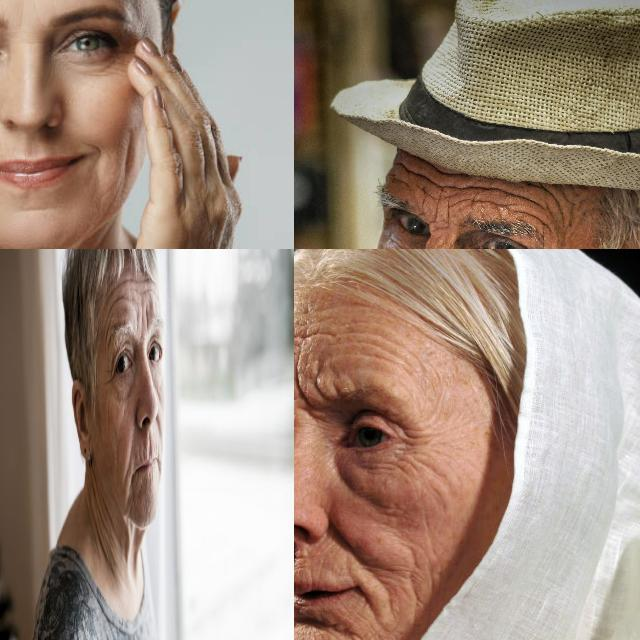chin: (314, 614, 365, 640), (15, 200, 61, 218), (135, 470, 156, 491), (126, 488, 135, 519)
crows_feet: (392, 424, 423, 466), (104, 365, 116, 388)
forehead: (484, 180, 538, 220), (356, 332, 412, 364), (436, 173, 480, 211), (544, 182, 578, 218), (396, 159, 428, 195), (294, 321, 335, 346), (107, 281, 121, 310), (103, 319, 112, 353), (122, 268, 136, 289), (142, 280, 152, 298)
frown_line: (294, 370, 310, 414), (144, 304, 150, 332), (135, 304, 140, 334)
gummy_smile: (333, 514, 363, 556), (124, 460, 130, 486)
masseter: (402, 540, 432, 622), (122, 130, 136, 184)
sad_smile: (83, 140, 109, 172)
smoker_lines: (140, 434, 156, 453), (294, 551, 301, 581)
